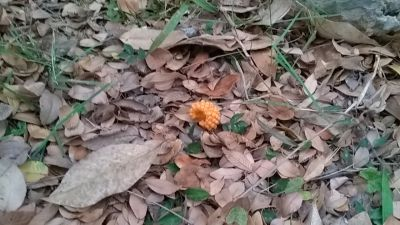eggs: (189, 99, 223, 130)
